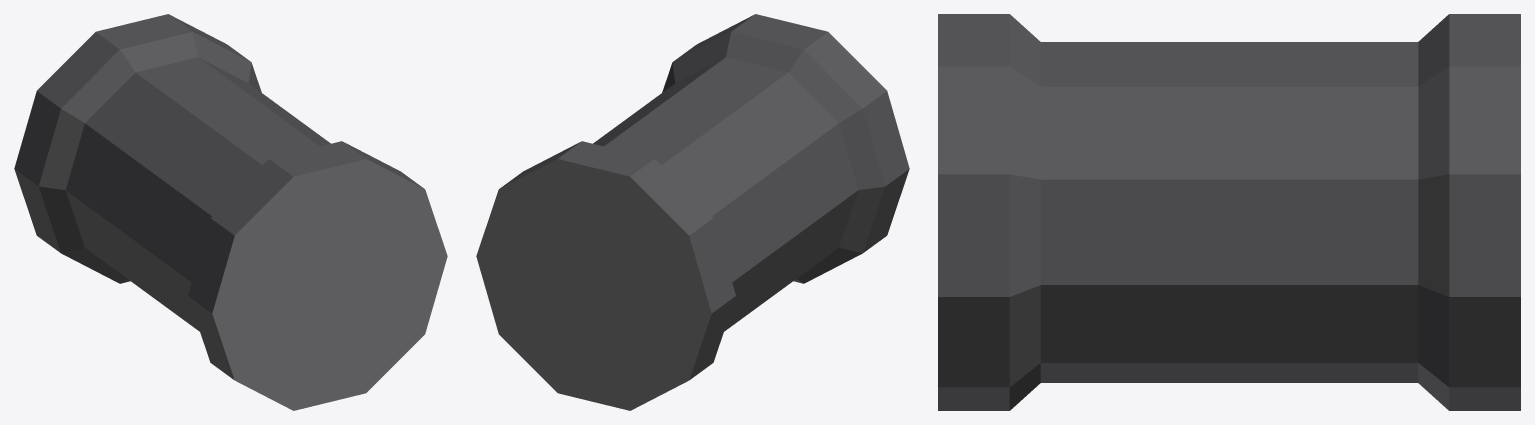
File: Polea.fbx
The picture shows the model from 3 angles, left to right: view 1: azimuth 30°, elevation 25°; view 2: azimuth 150°, elevation 25°; view 3: azimuth 270°, elevation 25°; orthographic projection. The views are drawn at different scales.
Visible parts, largest first — view 1: pCylinder13; view 2: pCylinder13; view 3: pCylinder13.
Part boxes in pixels (left/top/right/bottom): pCylinder13: left=14, top=14, right=447, bottom=410; pCylinder13: left=476, top=14, right=909, bottom=410; pCylinder13: left=938, top=14, right=1520, bottom=410.
Bounding box in the file's own units: 1.12 × 1.07 × 1.63.
